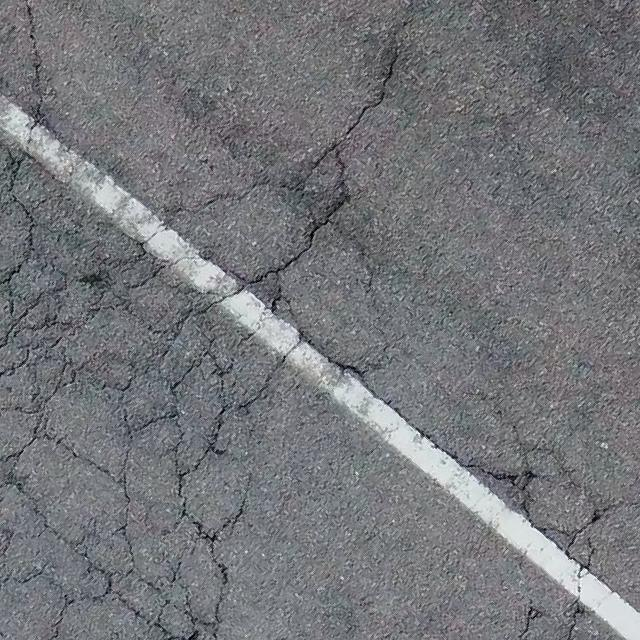GRIETA: (345, 42, 403, 136), (22, 0, 41, 107)
PIEL DE COCODRILO: (0, 101, 635, 639)
